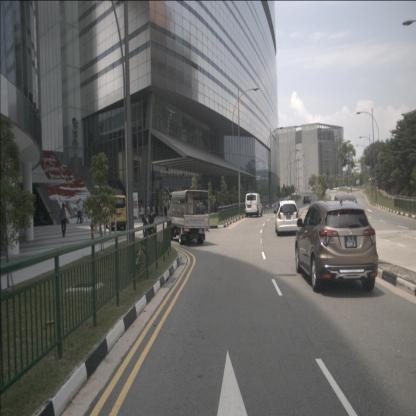human-pedestrian-adult: (60, 202, 66, 238), (76, 198, 84, 222), (76, 201, 82, 224), (82, 200, 88, 222), (139, 198, 142, 214), (140, 199, 143, 215), (156, 195, 158, 212)
vehicle-bicycle: (132, 240, 150, 275)
vehicle-car: (295, 200, 378, 292), (332, 193, 360, 226), (276, 200, 300, 236), (104, 195, 127, 230), (245, 193, 262, 218), (303, 195, 311, 205)
vehicle-motorcycle: (139, 211, 156, 241)
vehicle-truck: (166, 189, 210, 245)
